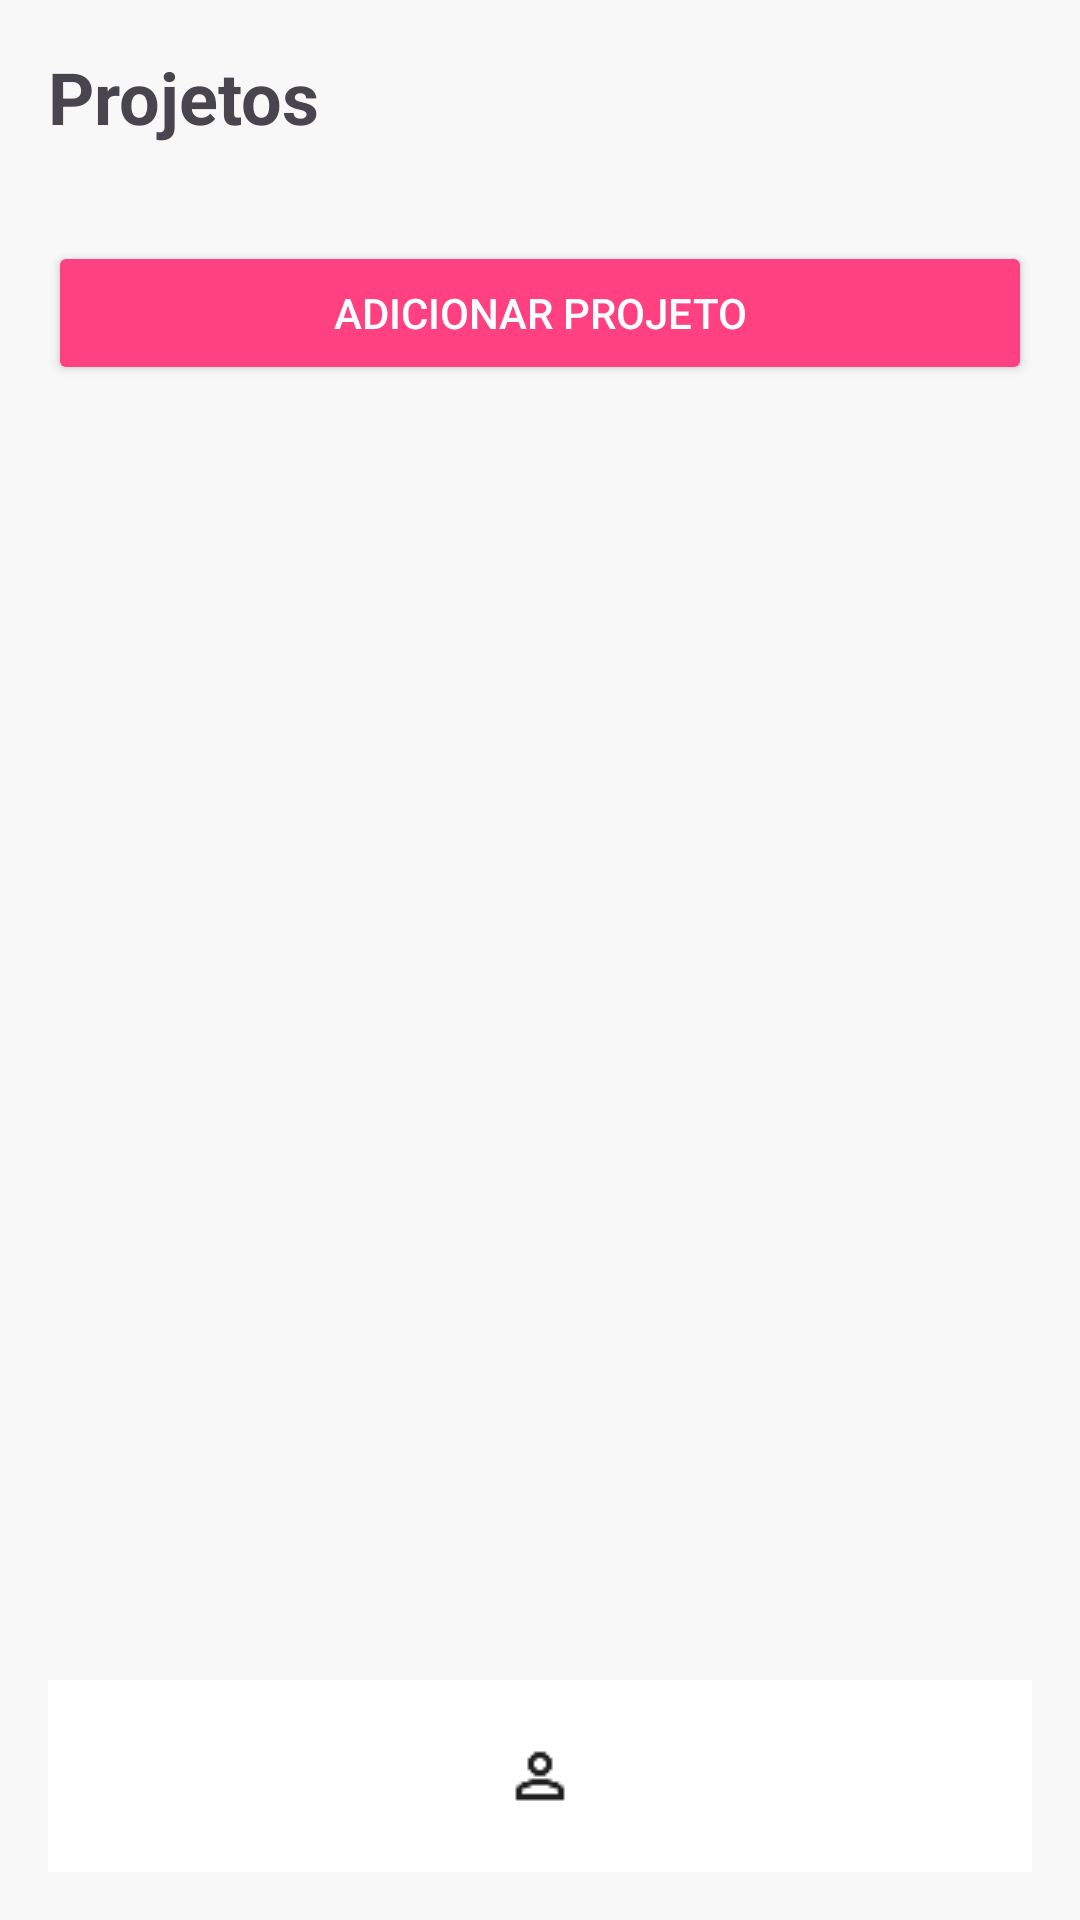

Icons on this 1080w x 1920h Android screen, each with the point to tap as point (x, y):
Perfil: point (540, 1776)
